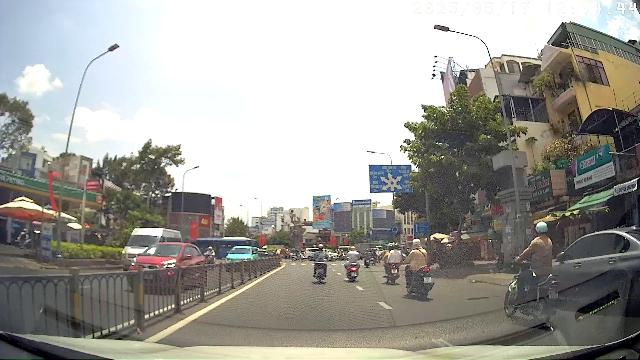303-noi-giao-nhau-chay-theo-vong-xuyen: (392, 226, 398, 234)
